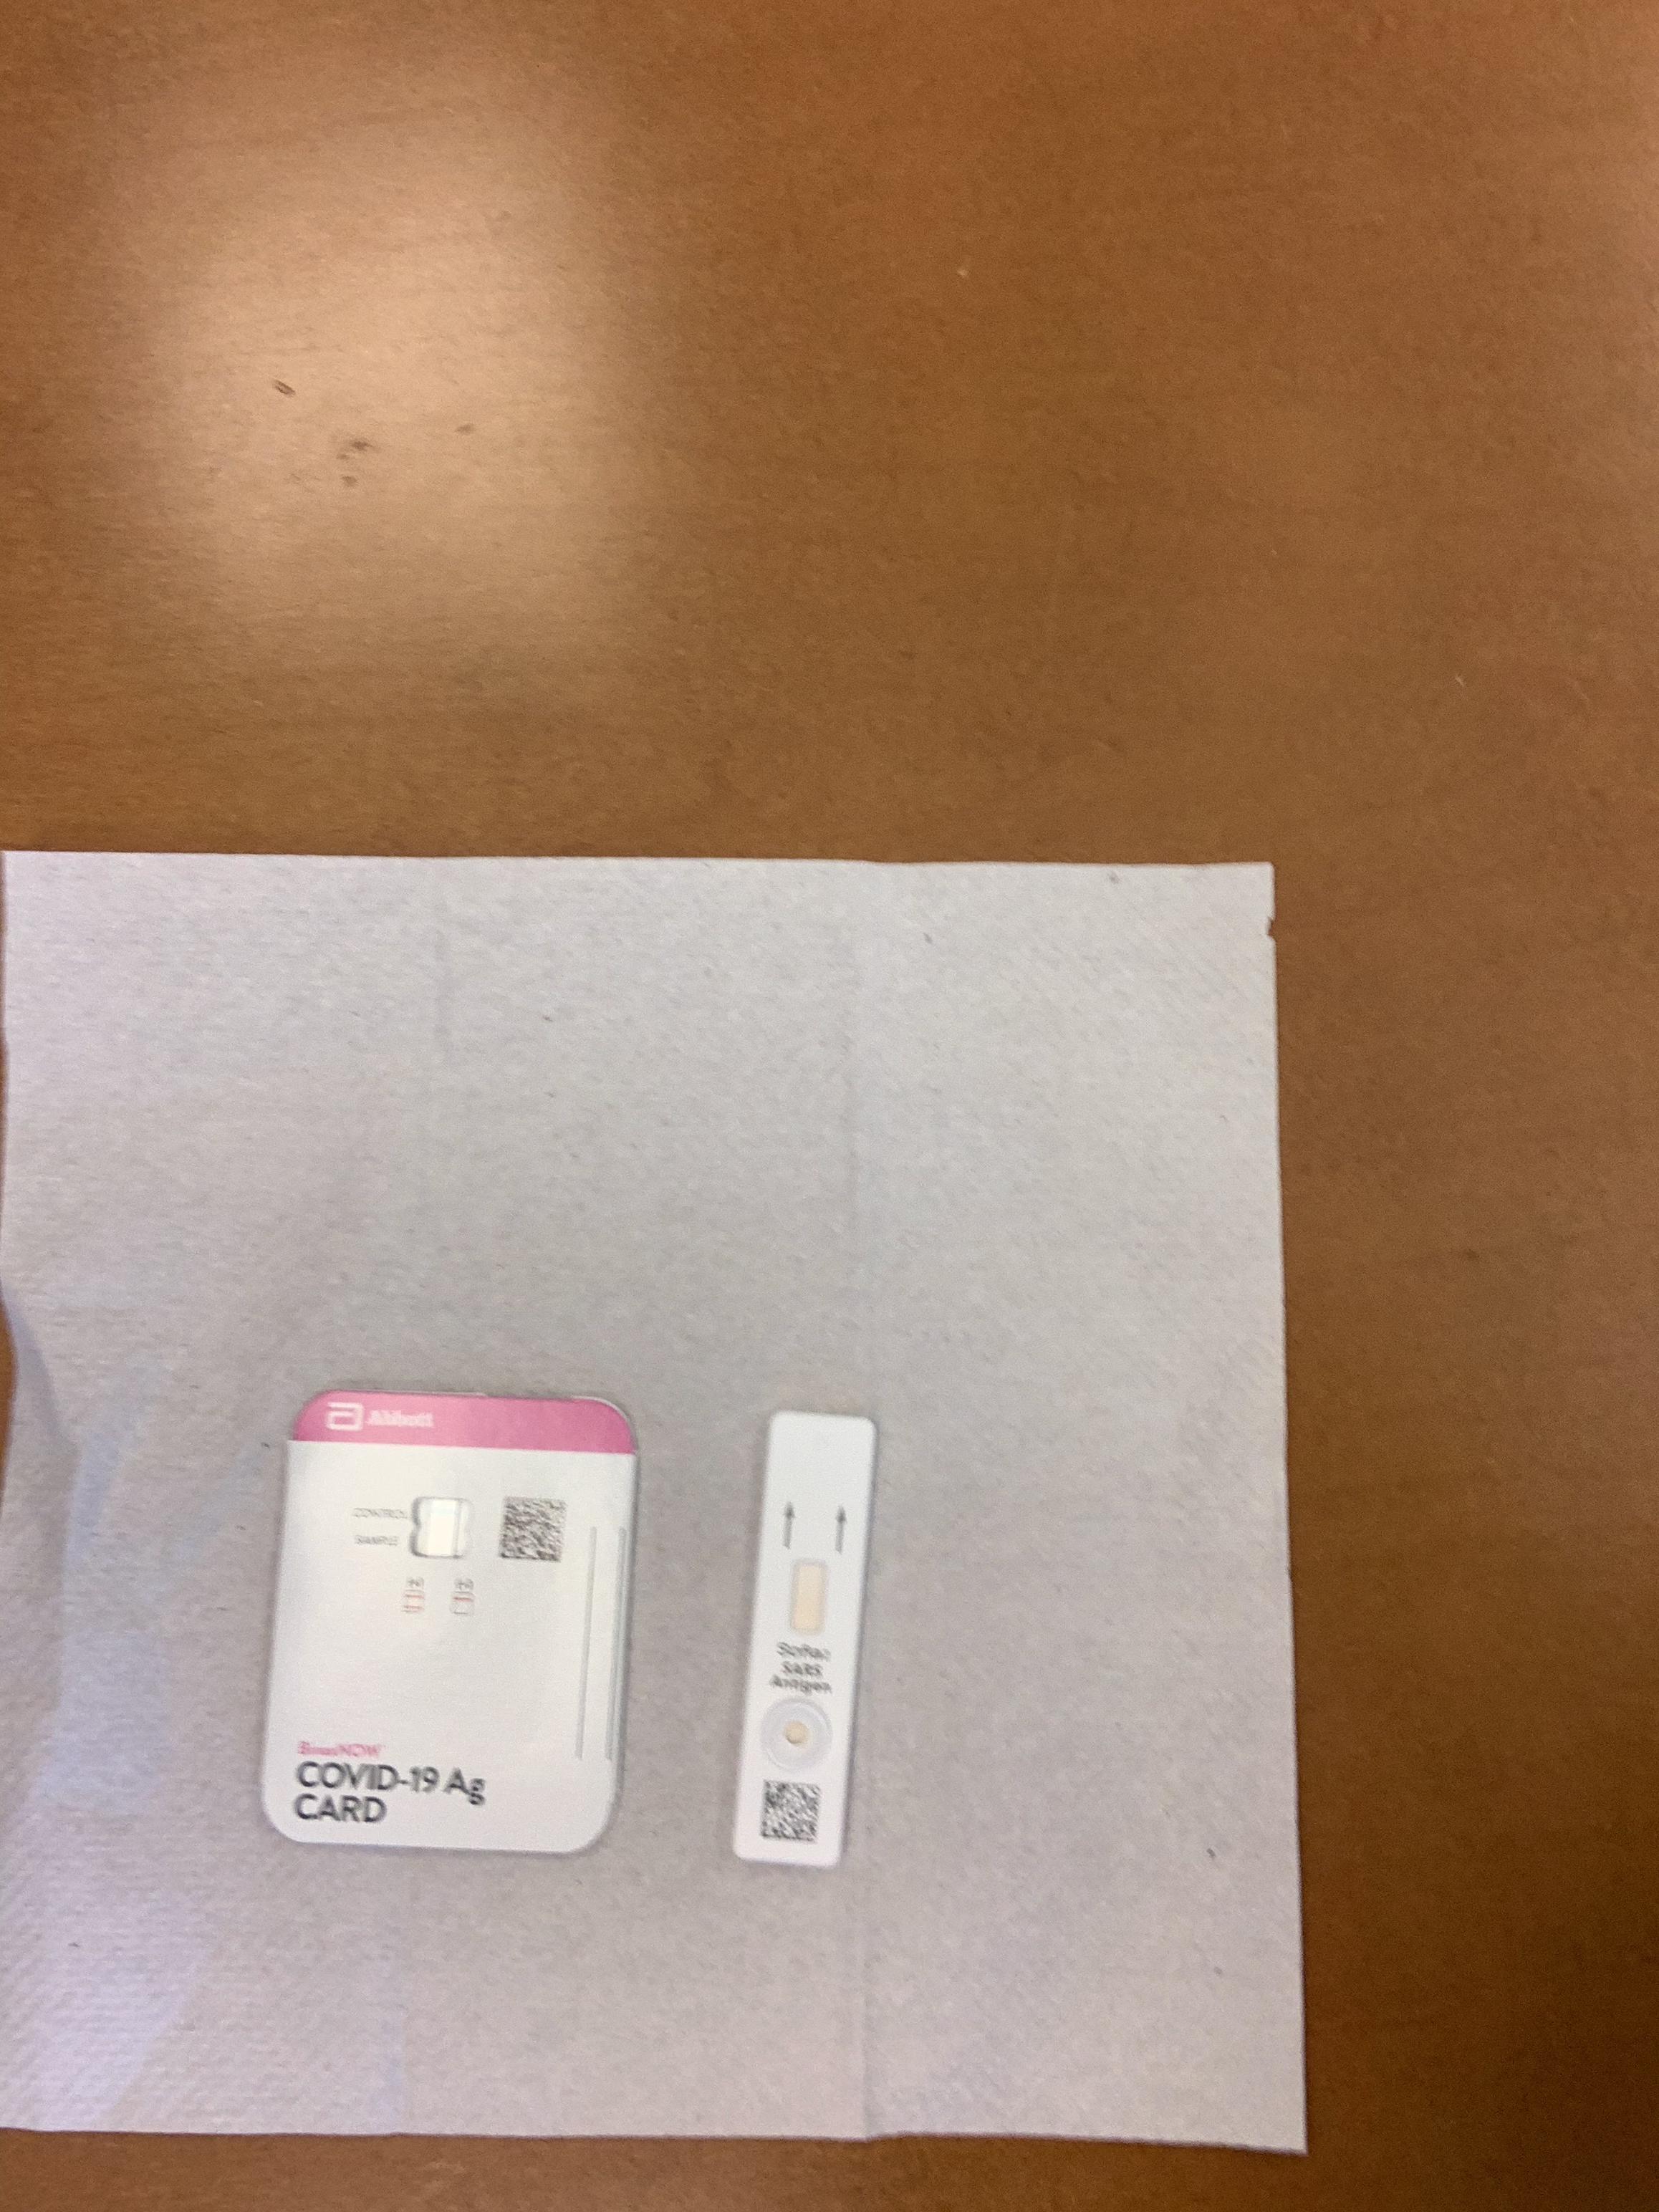binax: (256, 1372, 645, 1865)
quidel: (728, 1397, 889, 1872)
